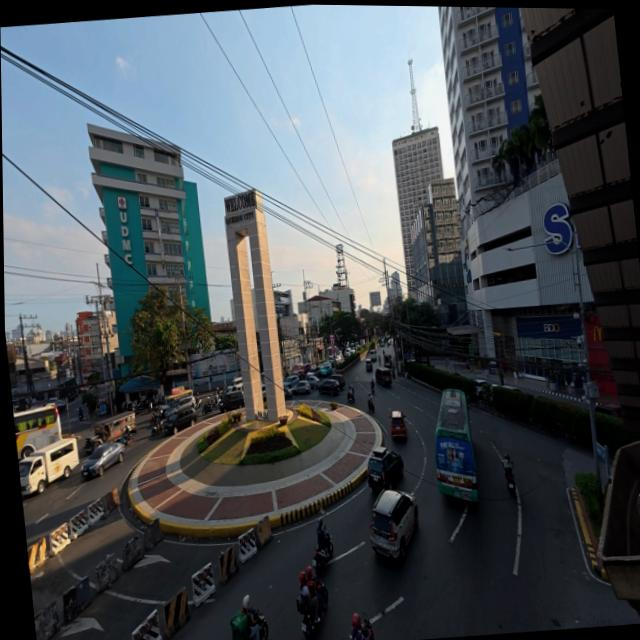Jeepneys: (85, 412, 135, 453), (159, 389, 194, 415), (383, 355, 392, 368)
bus: (435, 390, 477, 500), (13, 405, 61, 457)
car: (371, 490, 419, 561), (368, 447, 404, 490), (82, 442, 126, 477), (164, 408, 197, 434), (220, 390, 244, 412), (390, 410, 406, 438), (595, 404, 621, 417), (319, 379, 340, 395), (291, 381, 310, 394), (331, 374, 346, 389), (284, 375, 300, 389), (308, 376, 321, 389), (320, 364, 332, 377), (306, 366, 320, 377), (299, 363, 310, 377), (290, 363, 301, 372), (344, 347, 353, 357), (262, 382, 266, 400), (366, 359, 372, 371), (387, 340, 391, 347)
motorcycle: (312, 526, 333, 575), (297, 595, 317, 639), (230, 612, 254, 639), (361, 613, 374, 639), (505, 466, 516, 494), (151, 417, 164, 435), (120, 435, 134, 447), (202, 399, 212, 414), (347, 390, 355, 402), (368, 399, 374, 412), (195, 395, 201, 408), (213, 395, 219, 407), (372, 383, 375, 395), (79, 412, 83, 421)
vans: (19, 438, 79, 495), (375, 368, 392, 386), (369, 349, 377, 361)
